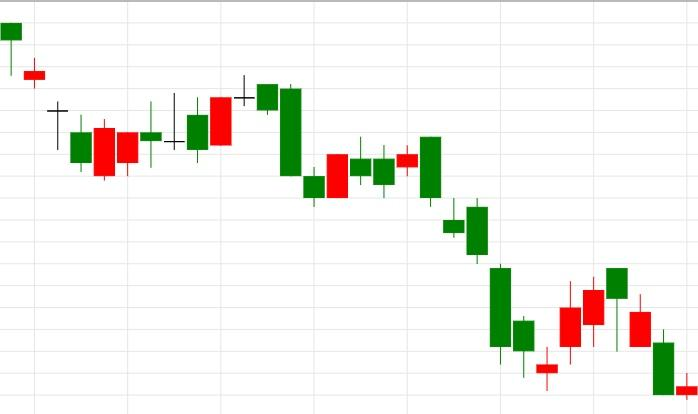bearish_engulfing_fall: (303, 136, 442, 207)
